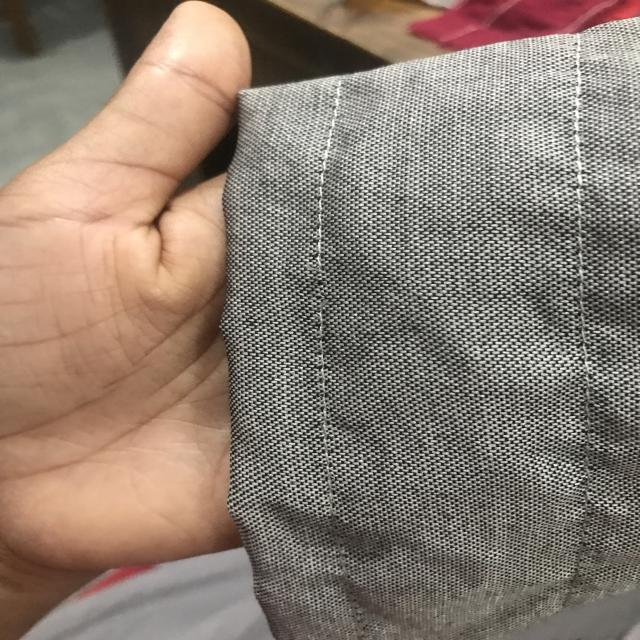broken: (305, 259, 345, 323)
